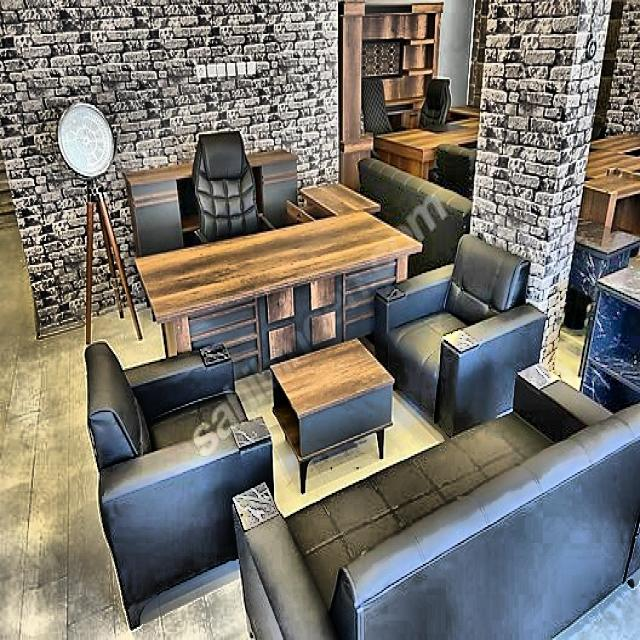sofa: (230, 367, 639, 638), (84, 338, 274, 628), (372, 231, 547, 438), (356, 155, 472, 278)
